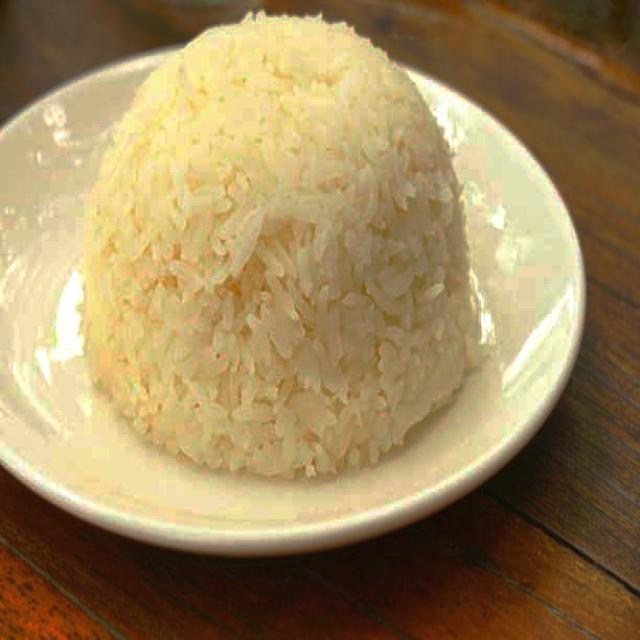rice: (76, 8, 479, 480)
